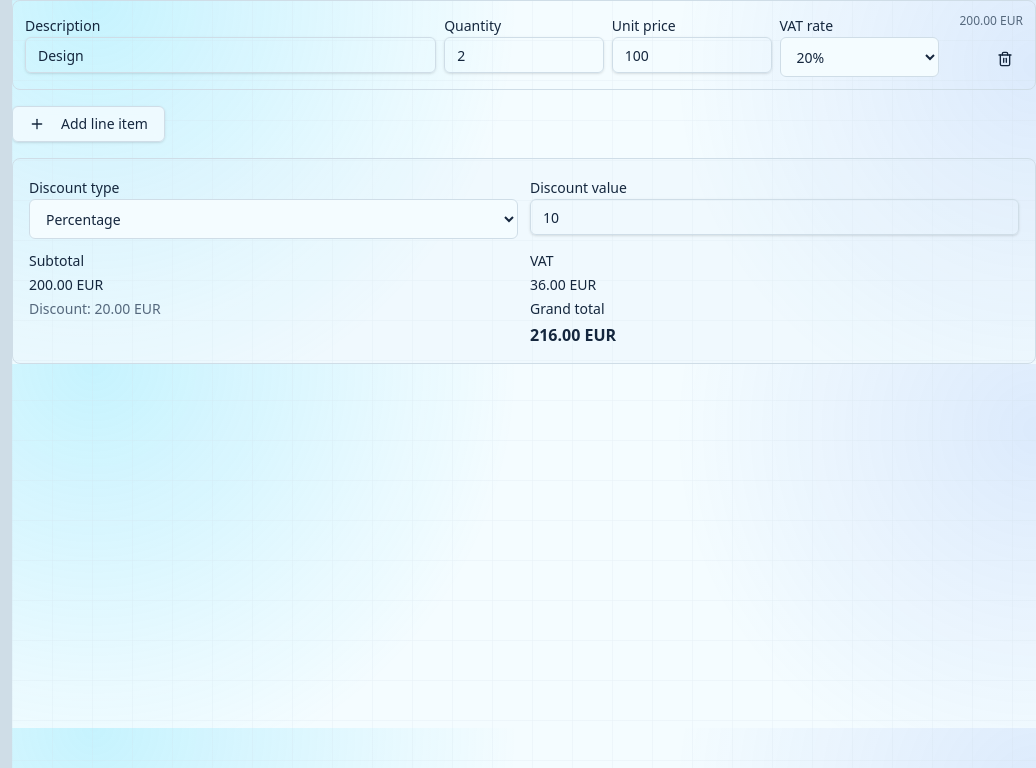
Test: LineItemsEditor › computes subtotal vat discount and grand total
Expected: the text "Subtotal" is shown, [29,251,84,270]
Expected: the text "200.00 EUR" next to "VAT rate" is shown, [959,12,1023,29]
Replace the text in the number field labelled "Discount value" with "0". click: (774, 217)
box: [530,199,1019,235]
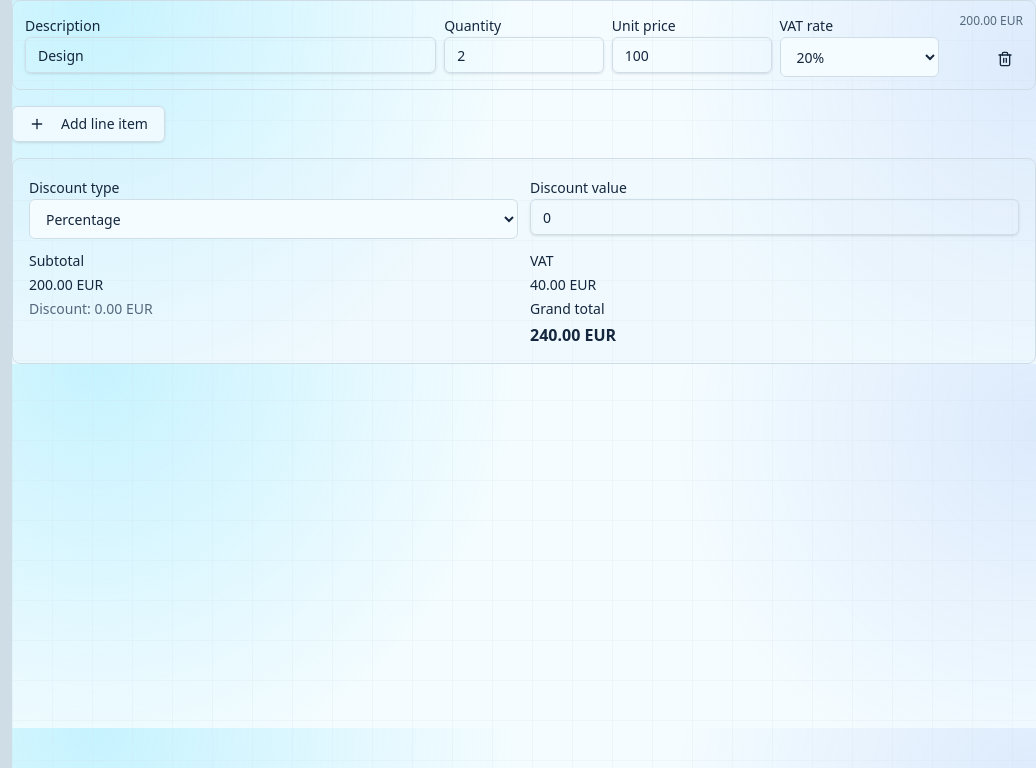
Expected: the text "240.00 EUR" is shown, [530,324,616,346]
